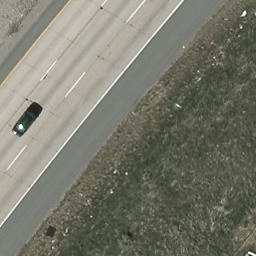car: (12, 101, 40, 138)
